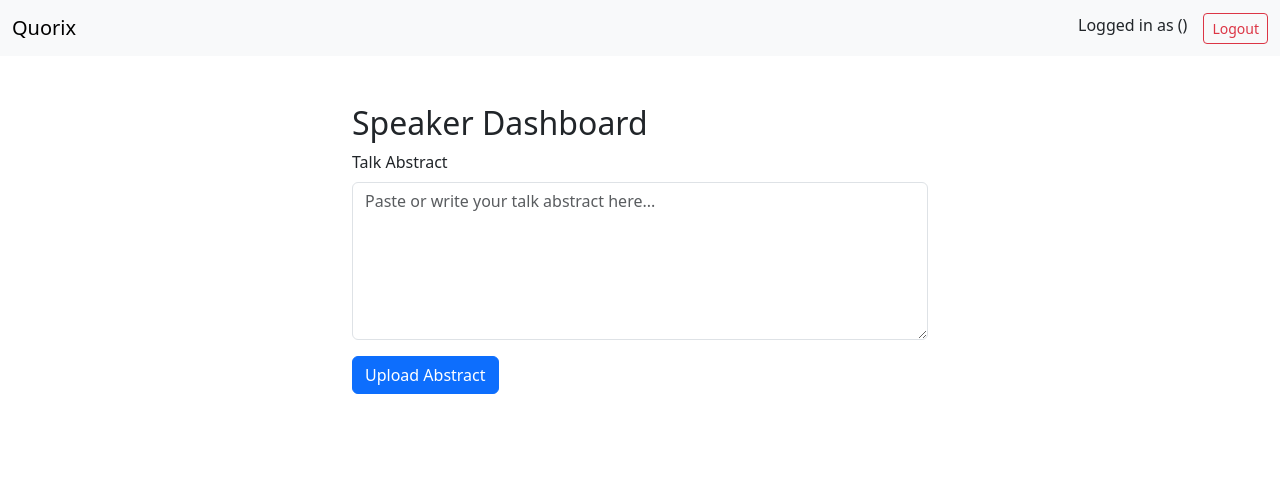
Test: SpeakerDashboard › allows entering and uploading an abstract
In the text box labelled "Talk Abstract": (640,261) [352,182,928,340], type "My talk abstract."
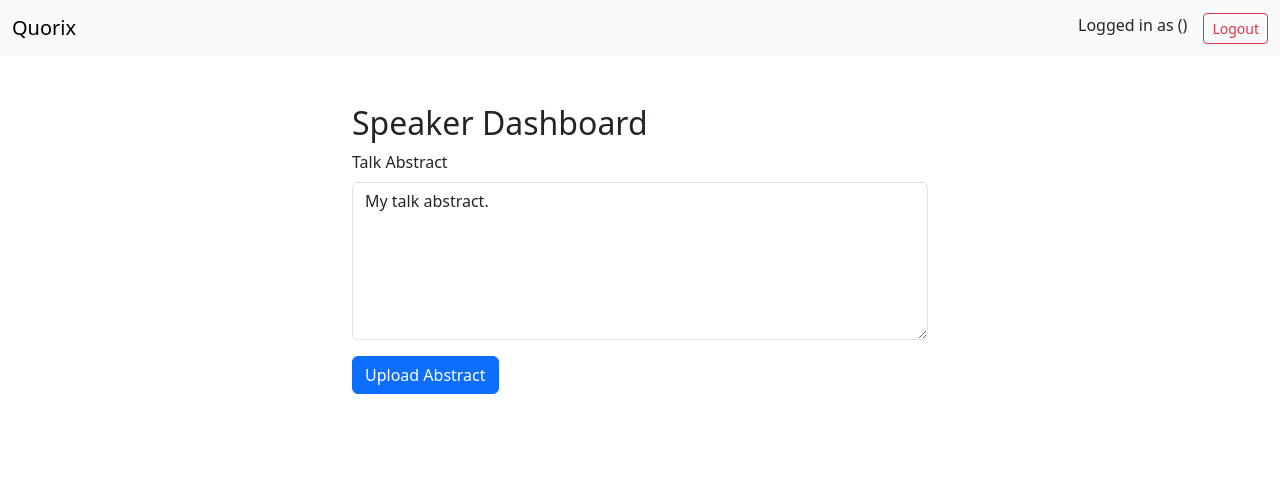
Click the button "Upload Abstract": (425,375) [352,356,498,394]
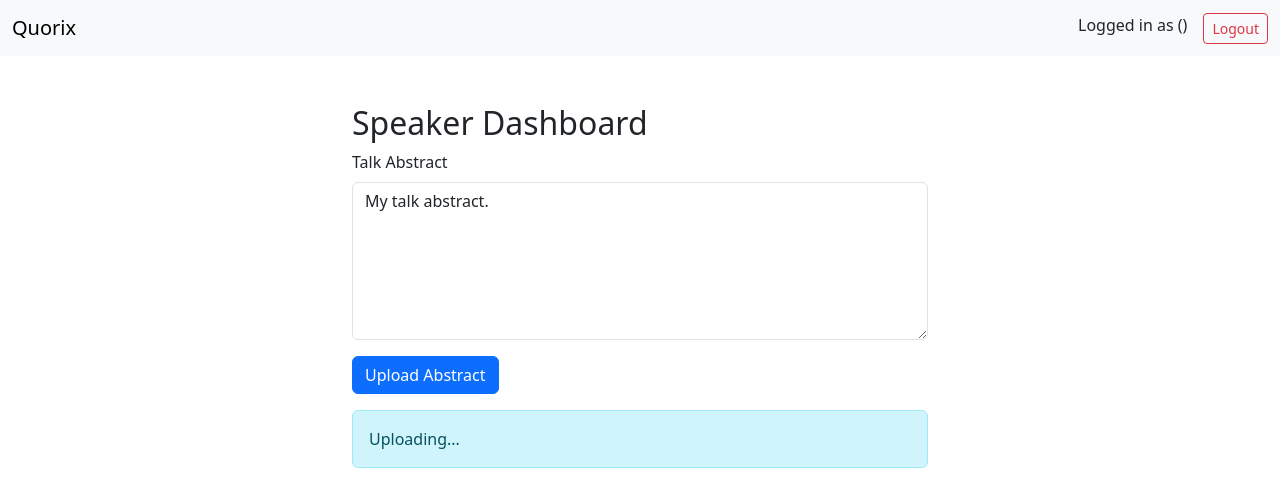
Result: the text "Uploading..." is shown at [352,410,928,468]
